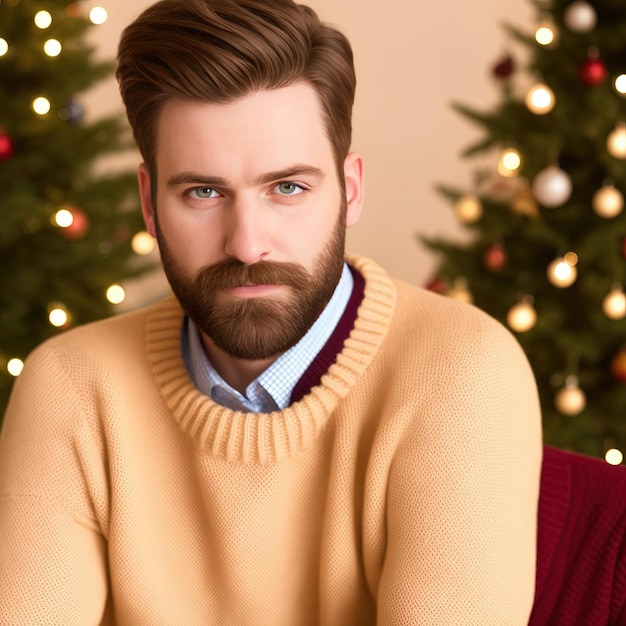young: (126, 12, 364, 364)
